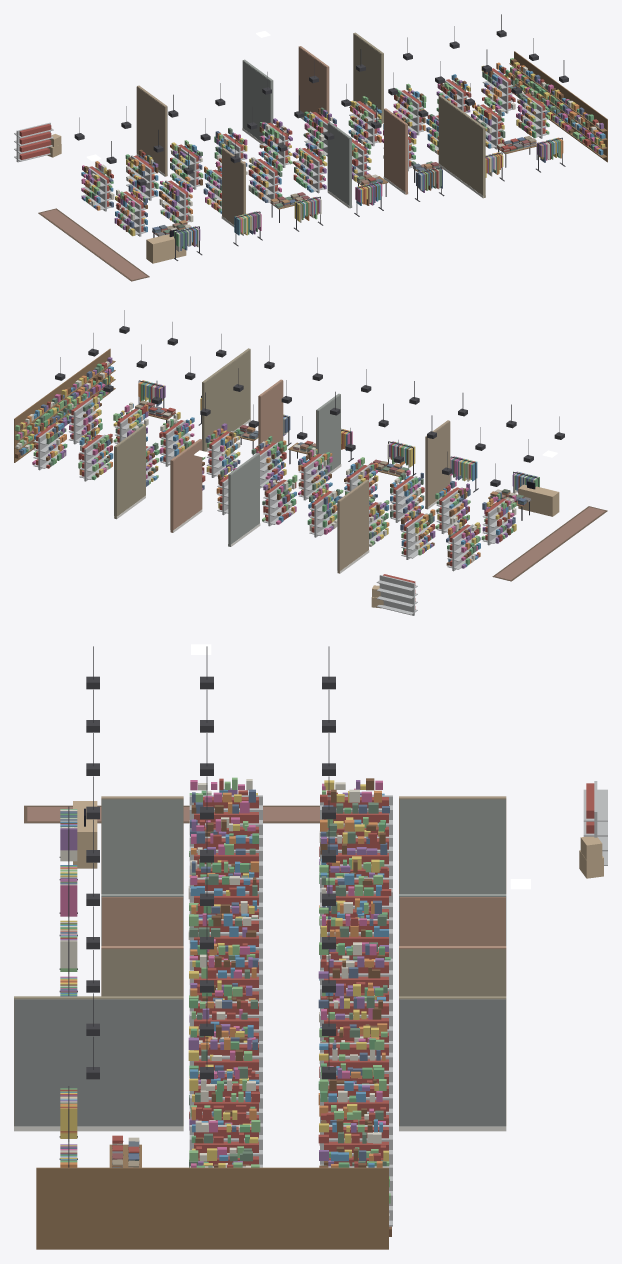
Rendered from fine-s0.glb.
3 renders of one model, top to bottom at view 1: azimuth 30°, elevation 25°; view 2: azimuth 150°, elevation 25°; view 3: azimuth 270°, elevation 25°, orthographic. The views are drawn at different scales.
Parts seen in each view (by area): view 1: soft-s0, shelving.000, shop-counter.000, shelf.009, shelf.000, shelf.019, shelf.007, shelf.002, shelf.003, shelf.004, shelf.001, shelf.014 (+4 smaller); view 2: soft-s0, shelving.000, shop-counter.000, shelf.002, shelf.000, shelf.009, shelf.016, shelf.008, shelf.005, shelf.003, shelf.019, shelf.001 (+5 smaller); view 3: soft-s0, shelf.012, shelf.010, shelving.000, shelf.003, shelf.017, shelf.009, shelf.011, shelf.001, shelf.013, shelf.008, shelf.005 (+10 smaller).
Part boxes in pixels (bbox=[...]): soft-s0: bbox=[38, 14, 607, 281]; shelving.000: bbox=[14, 122, 53, 162]; shop-counter.000: bbox=[146, 229, 186, 263]; shelf.009: bbox=[295, 147, 324, 193]; shelf.000: bbox=[81, 166, 111, 211]; shelf.019: bbox=[517, 93, 547, 138]; shelf.007: bbox=[249, 158, 279, 202]; shelf.002: bbox=[126, 155, 156, 200]; shelf.003: bbox=[160, 180, 190, 222]; shelf.004: bbox=[170, 144, 200, 189]; shelf.001: bbox=[115, 191, 145, 236]; shelf.014: bbox=[393, 90, 423, 135]; soft-s0: bbox=[14, 310, 607, 581]; shelving.000: bbox=[376, 574, 417, 615]; shop-counter.000: bbox=[518, 481, 559, 516]; shelf.002: bbox=[401, 513, 430, 559]; shelf.000: bbox=[447, 524, 476, 571]; shelf.009: bbox=[299, 453, 328, 500]; shelf.016: bbox=[79, 434, 106, 481]; shelf.008: bbox=[263, 479, 292, 526]; shelf.005: bbox=[390, 476, 420, 522]; shelf.003: bbox=[436, 487, 466, 533]; shelf.019: bbox=[69, 397, 97, 444]; shelf.001: bbox=[482, 498, 511, 545]; soft-s0: bbox=[14, 646, 506, 1249]; shelf.012: bbox=[320, 1042, 392, 1083]; shelf.010: bbox=[320, 1001, 392, 1042]; shelving.000: bbox=[583, 781, 607, 865]; shelf.003: bbox=[189, 836, 262, 877]; shelf.017: bbox=[189, 1125, 262, 1166]; shelf.009: bbox=[189, 960, 262, 1001]; shelf.011: bbox=[189, 1001, 262, 1042]; shelf.001: bbox=[189, 795, 262, 836]; shelf.013: bbox=[189, 1042, 262, 1083]; shelf.008: bbox=[320, 960, 392, 1001]; shelf.005: bbox=[189, 877, 262, 918].
Bounding box in the file's own units: 25.82 × 5.05 × 14.62.
